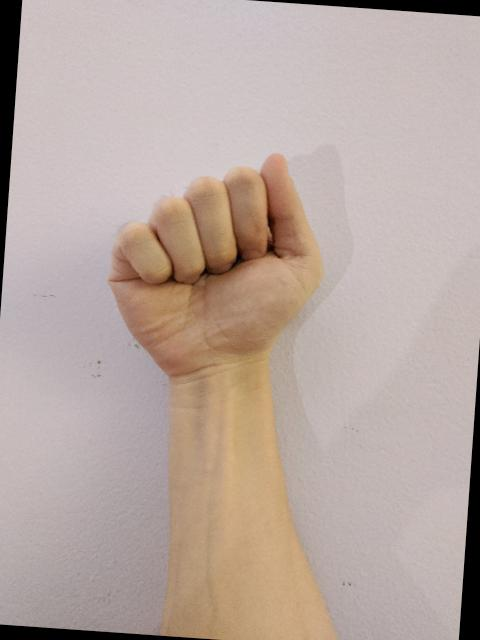A: (90, 132, 340, 396)
